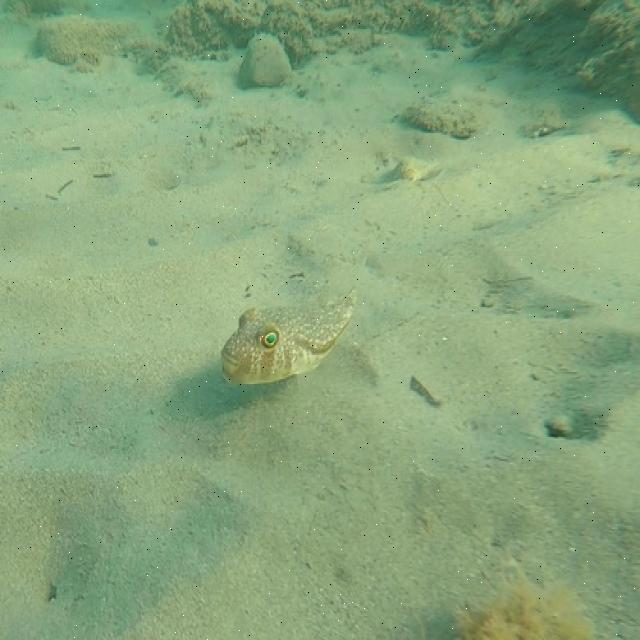Balik: (222, 291, 355, 383)
